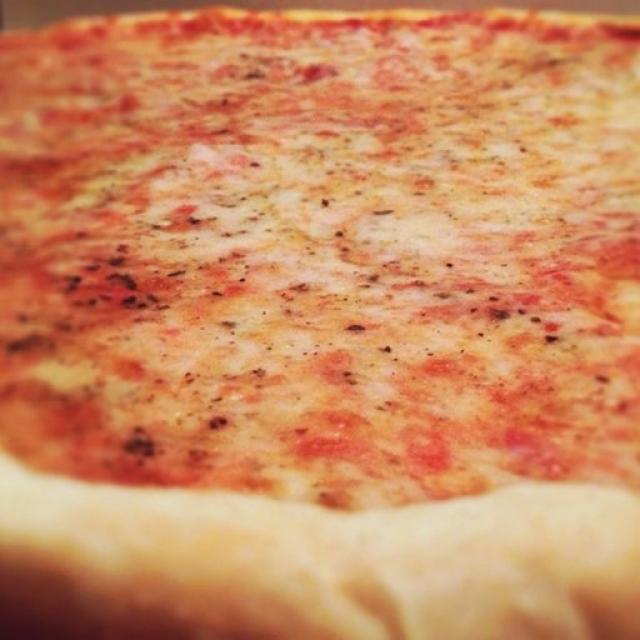Cheese: (146, 111, 584, 451)
Pizza: (0, 10, 640, 640)
